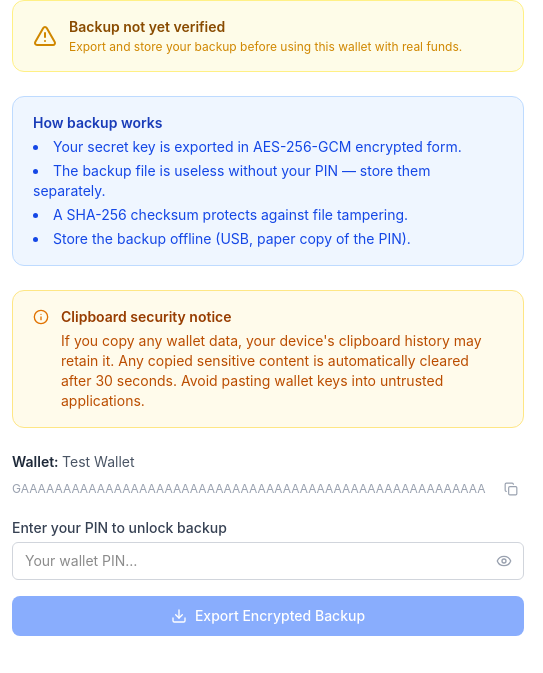
Test case: WalletBackup – clipboard security › shows "Copied!" feedback after copy button is clicked
Click the button named "copy public key": (511, 489) [498, 476, 524, 502]
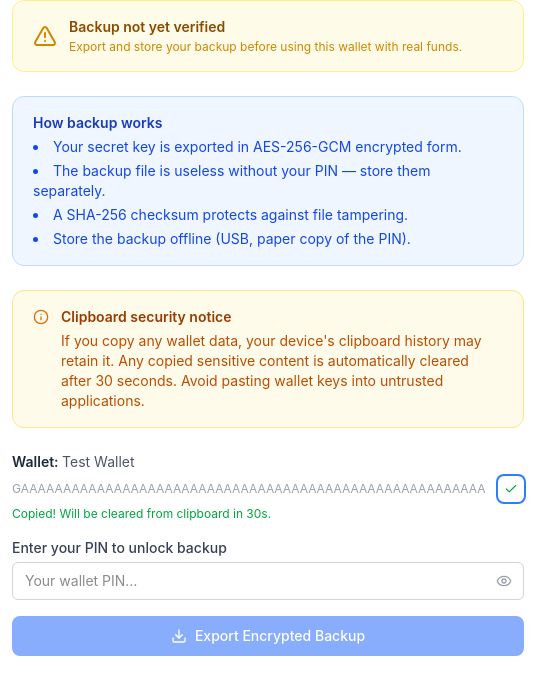
expect the message shows "Copied": met, box [12, 506, 246, 521]
